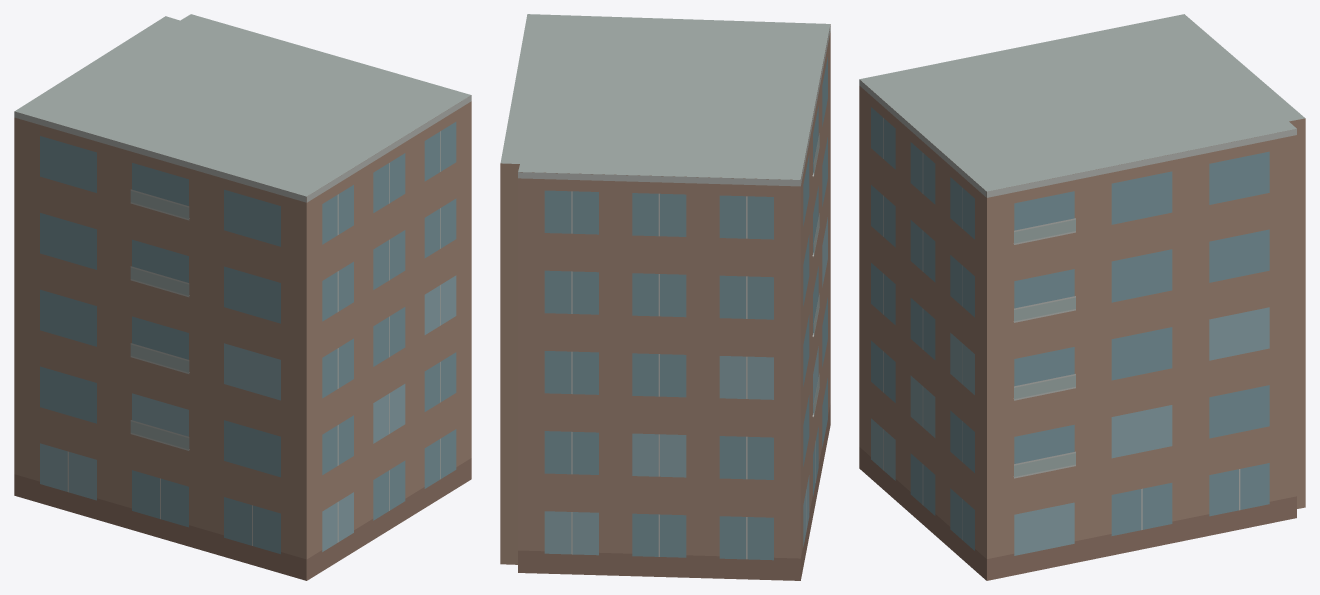
The model's file is survey-upis-32964436.glb.
The picture shows the model from 3 angles, left to right: view 1: azimuth 30°, elevation 25°; view 2: azimuth 150°, elevation 25°; view 3: azimuth 270°, elevation 25°; orthographic projection. The views are drawn at different scales.
Parts seen in each view (by area): view 1: survey-upis-32964436.tmp; view 2: survey-upis-32964436.tmp; view 3: survey-upis-32964436.tmp.
Part boxes in pixels (bbox=[...]): survey-upis-32964436.tmp: bbox=[14, 14, 471, 580]; survey-upis-32964436.tmp: bbox=[500, 14, 830, 580]; survey-upis-32964436.tmp: bbox=[859, 14, 1305, 580].
Size of the model in its own units: 14.94 by 15.25 by 15.86.
